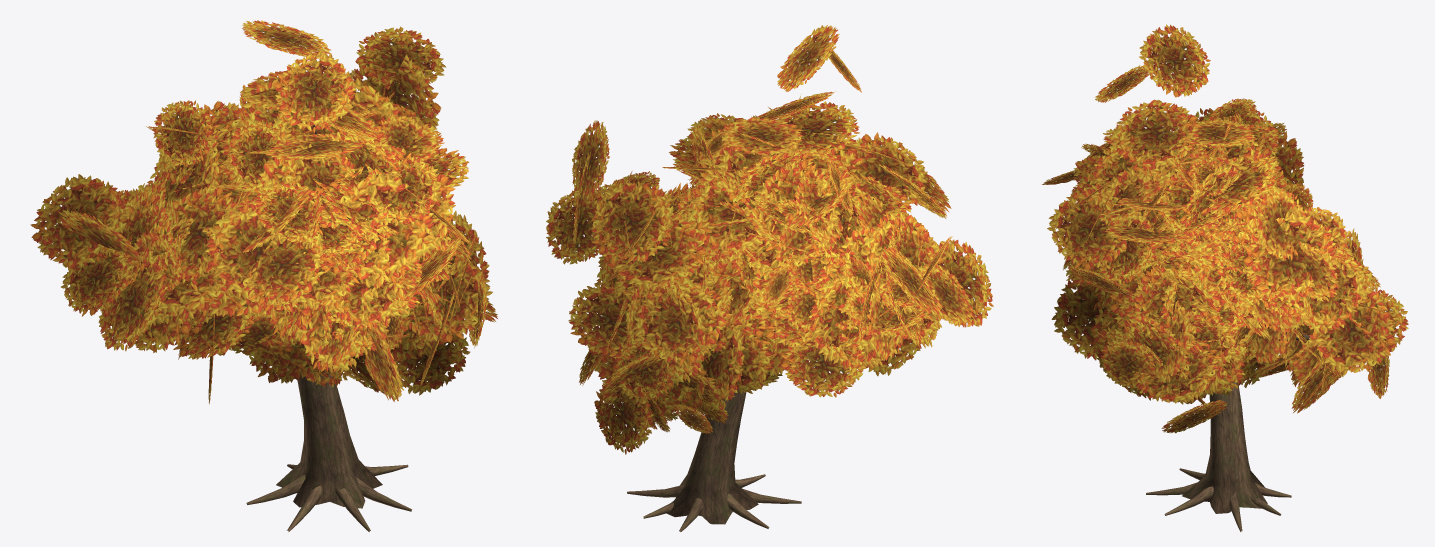
The model's file is arbol_otono.gltf.
3 views of the same model, side by side, from view 1: azimuth 30°, elevation 25°; view 2: azimuth 150°, elevation 25°; view 3: azimuth 270°, elevation 25° (orthographic). The views are drawn at different scales.
Parts seen in each view (by area): view 1: arbol_otono; view 2: arbol_otono; view 3: arbol_otono.
Boxes of the visible parts, bbox=[...] form: arbol_otono: bbox=[30, 20, 497, 531]; arbol_otono: bbox=[546, 25, 993, 531]; arbol_otono: bbox=[1042, 24, 1408, 531].
Size of the model in its own units: 10.24 by 12.16 by 9.94.
2 materials, 2 textured.
